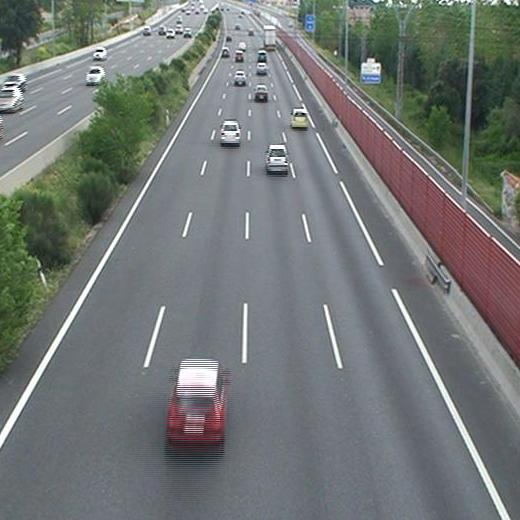car: (166, 359, 225, 445), (266, 146, 288, 172), (219, 121, 240, 142), (290, 109, 308, 128), (233, 72, 247, 86), (255, 86, 267, 100), (255, 63, 267, 73), (233, 51, 243, 62), (257, 52, 265, 60), (221, 48, 229, 56)
truck: (263, 24, 276, 52)
